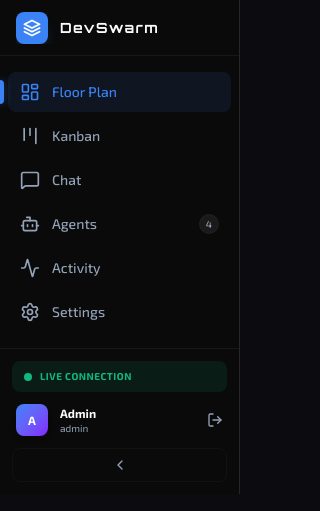
Test: Sidebar › collapses on toggle click
Step 1. Click the button named "Toggle sidebar" → (120, 465), box [12, 448, 227, 482]
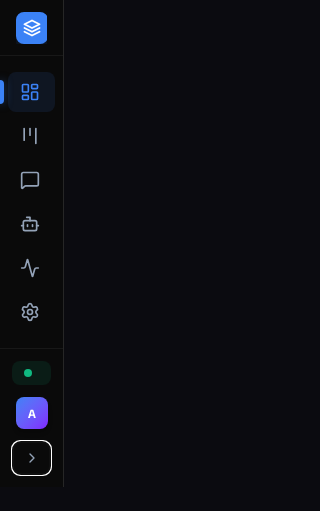
Result: the text "DevSwarm" is gone
